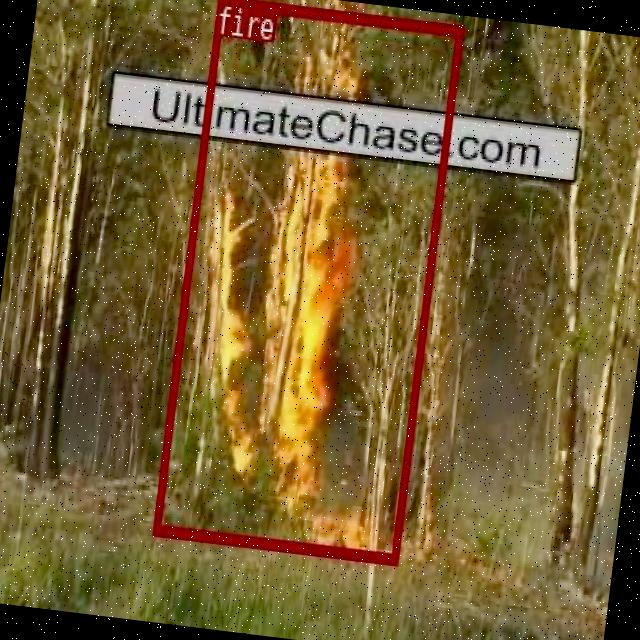fire: (151, 0, 462, 563)
